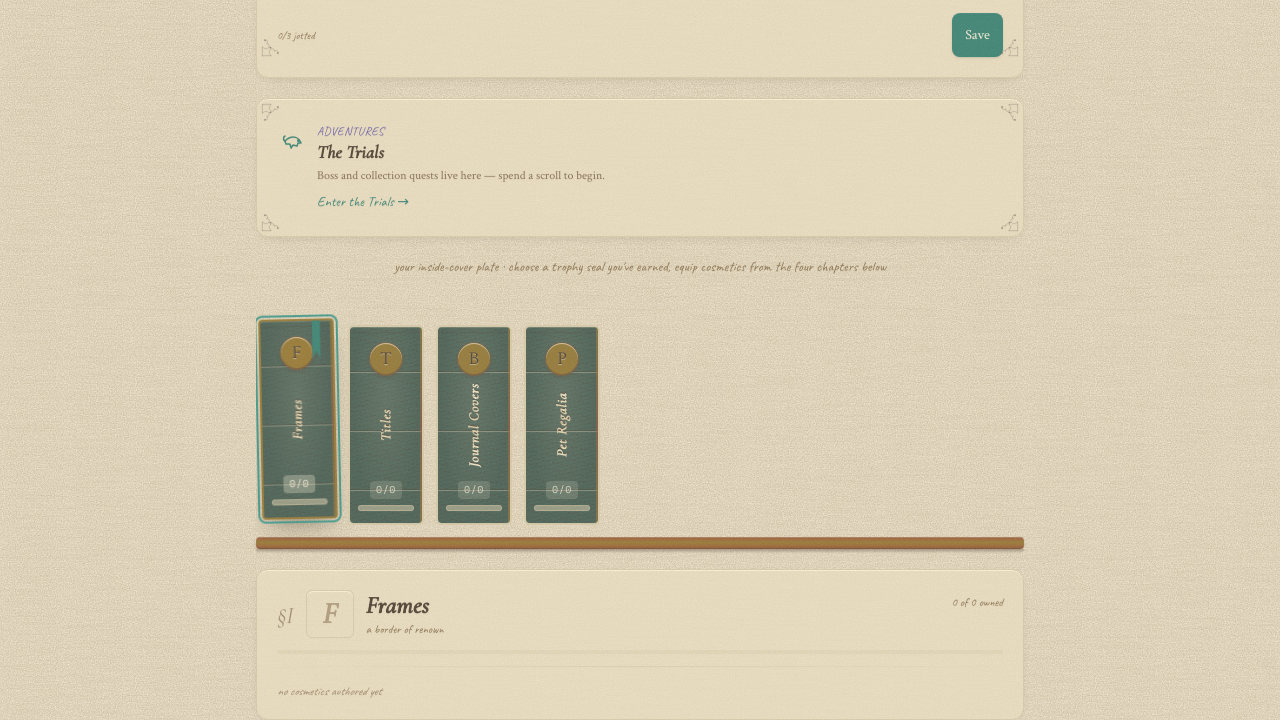
Character (/sigil) › renders a TomeShelf with four cosmetic chapter spines and opens only the active one
(page scrolled)
expect the element named "cosmetic chapters" is shown: met, box [258,318,600,525]
expect the element "Frames" is shown: met, box [256,569,1024,719]
# Switching spines swaps the rendered chapter.
What coordinates should you click on to do the following:
click the tab "T Titles 0/0"
I would click on:
 (386, 425)
Its box is [348,325,424,525].
(page scrolled)
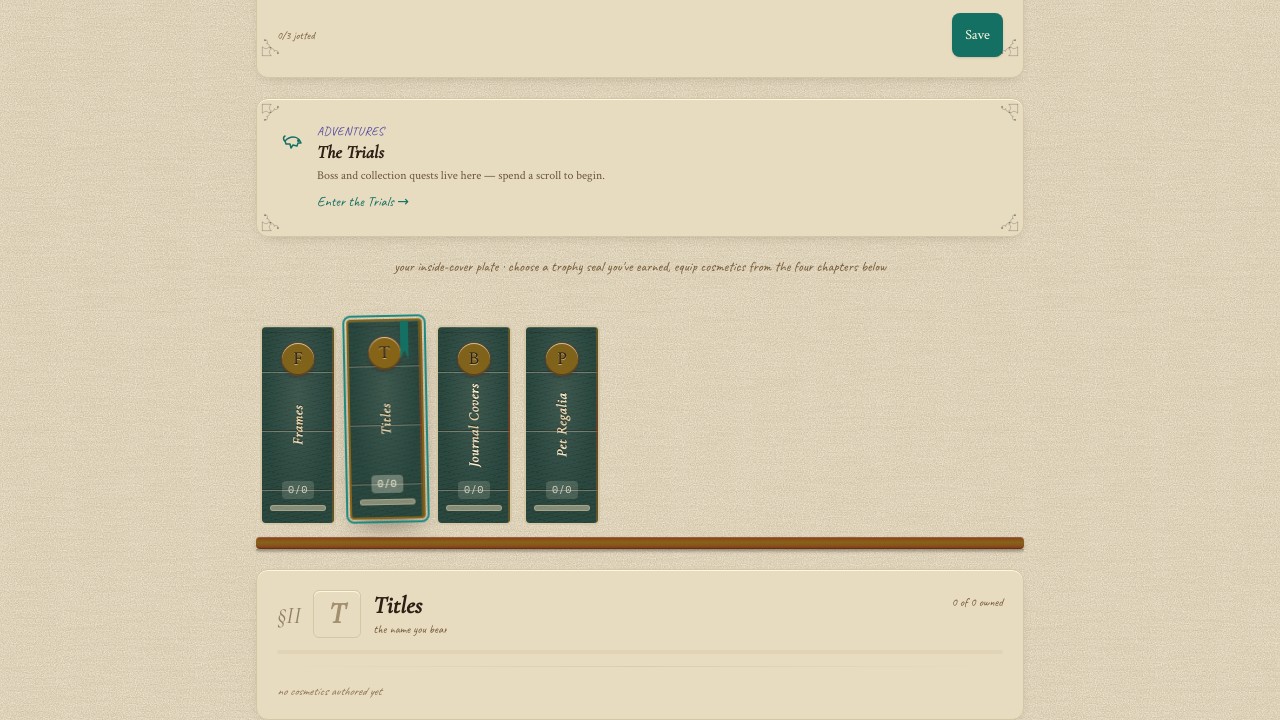
expect the element "Titles" is shown: met, box [256,569,1024,719]
